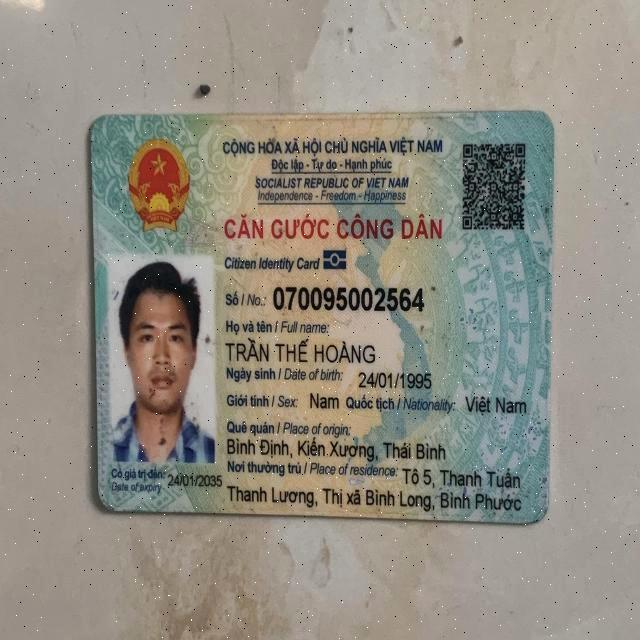current_place: (226, 484, 523, 513), (400, 461, 523, 491)
dob: (353, 365, 432, 393)
expire_date: (166, 469, 221, 489)
gender: (308, 390, 341, 412)
id: (272, 281, 430, 314)
name: (227, 334, 378, 363)
nationality: (462, 389, 530, 419)
origin_place: (224, 430, 448, 463)
qr: (460, 138, 531, 234)
